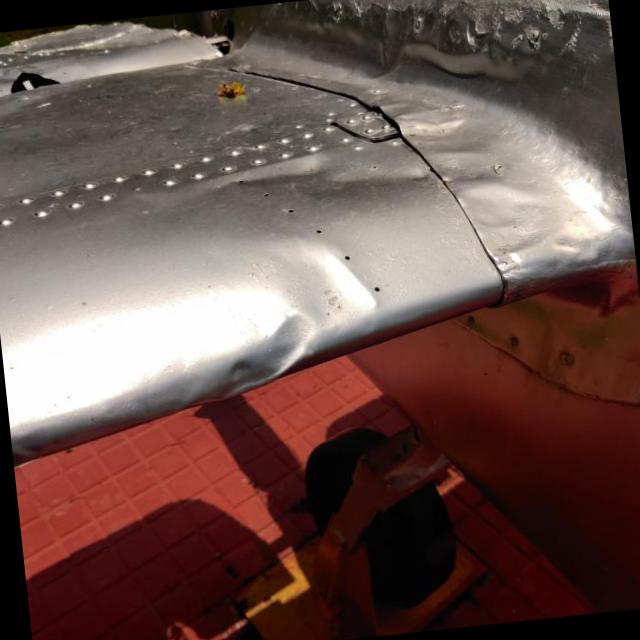Dent: (162, 289, 315, 411), (214, 133, 400, 216)
